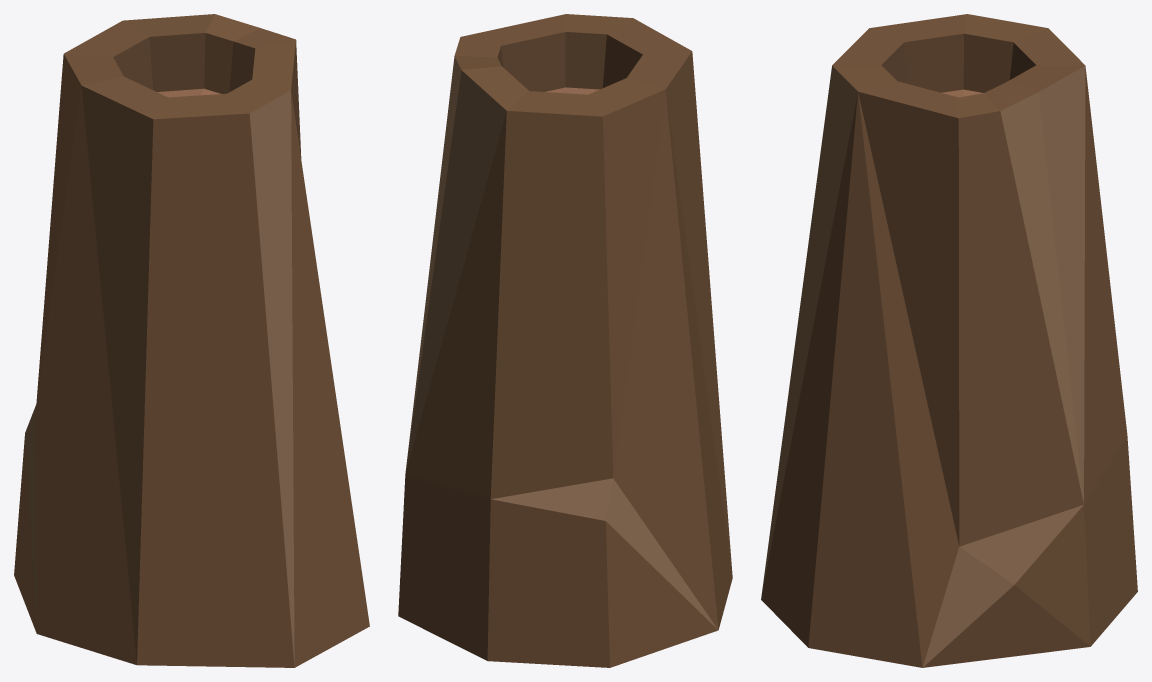
File: mesh_stump_pine_02.fbx
The picture shows the model from 3 angles, left to right: view 1: azimuth 30°, elevation 25°; view 2: azimuth 150°, elevation 25°; view 3: azimuth 270°, elevation 25°; orthographic projection.
Parts seen in each view (by area): view 1: mesh_stump_pine_02; view 2: mesh_stump_pine_02; view 3: mesh_stump_pine_02.
Boxes of the visible parts, x1=… form: mesh_stump_pine_02: x1=14, y1=14, x2=369, y2=667; mesh_stump_pine_02: x1=398, y1=14, x2=732, y2=667; mesh_stump_pine_02: x1=761, y1=14, x2=1137, y2=667.
Size of the model in its own units: 1.11 by 1.9 by 1.21.
